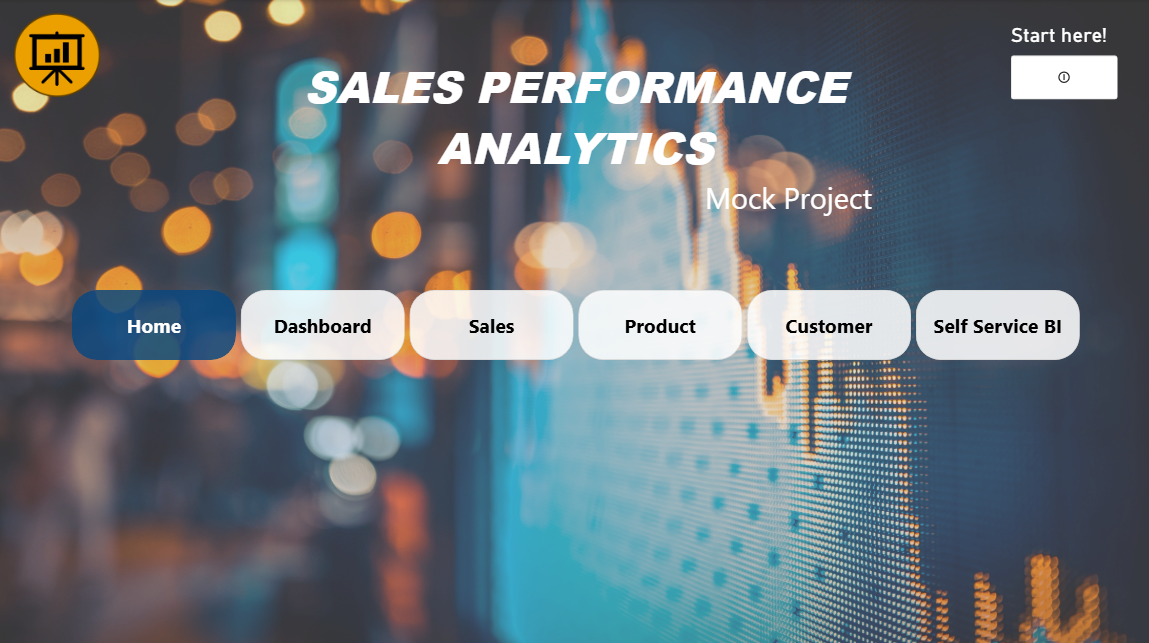

This screenshot's page, from the dashboard's own definition file:
{"tool":"powerbi","page":{"name":"Home","canvas":[1920,1080],"ordinal":0},"visuals":[{"type":"textbox","box":[390,93.3,1136.7,203.3],"z":0},{"type":"actionButton","title":"Start here!","box":[1680,40,176.7,126.7],"z":1000},{"type":"textbox","box":[1173.3,296.7,283.5,79.4],"z":2000},{"type":"image","box":[26.7,21.7,142.5,142.5],"z":3000},{"type":"pageNavigator","box":[123.3,483.3,1672.5,116.2],"z":4000}]}

Visuals, with their boxes in screenshot pixels (x1, y1, x2, y2), scaled from the page's 1920x1080 canvas onto the 1149x643 screenshot:
textbox: [233,56,914,177]
"Start here!" actionButton: [1005,24,1111,99]
textbox: [702,177,872,224]
image: [16,13,101,98]
pageNavigator: [74,288,1075,357]
